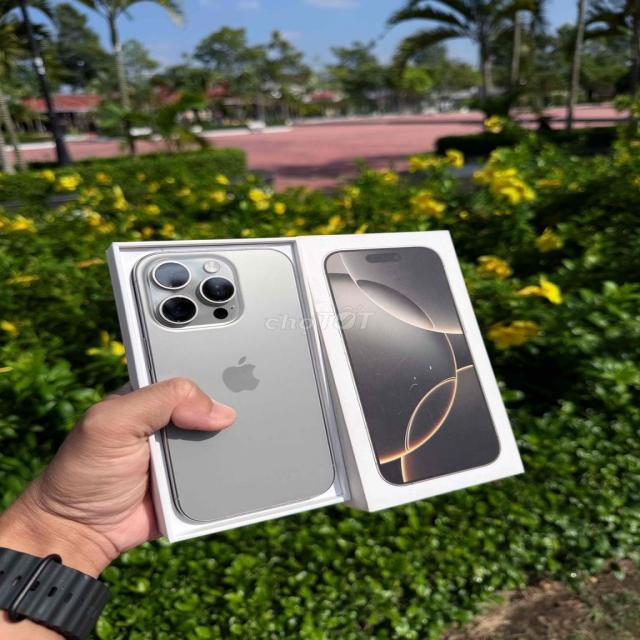gen_16: (126, 243, 334, 524)
